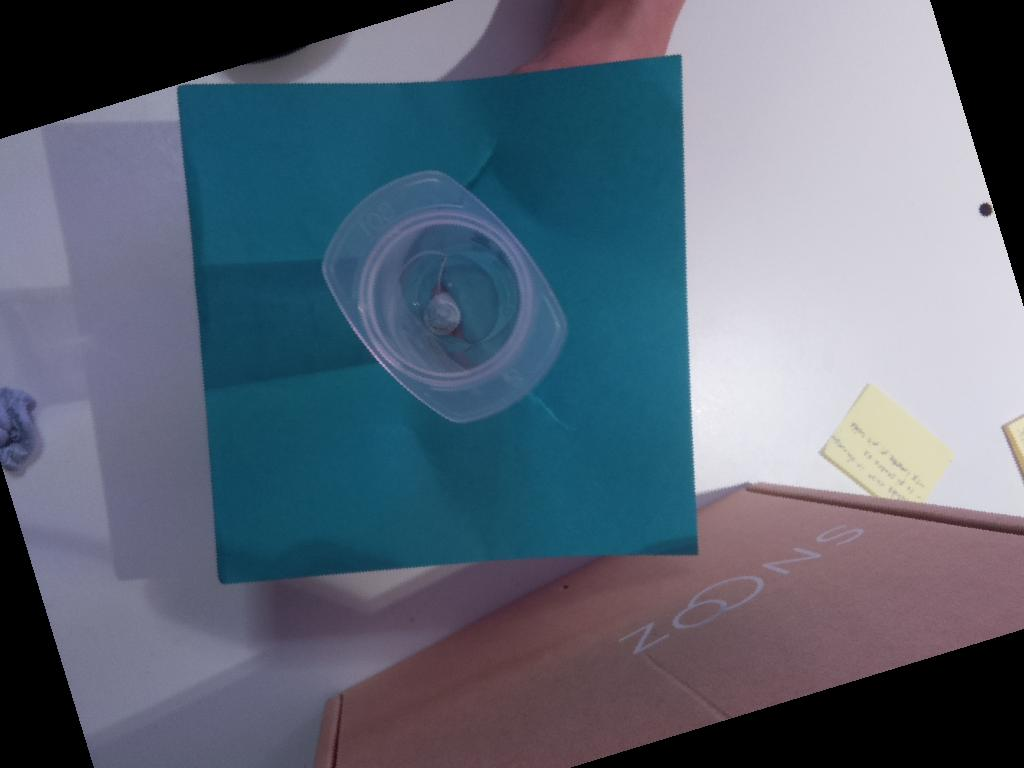clean: (321, 168, 572, 427)
